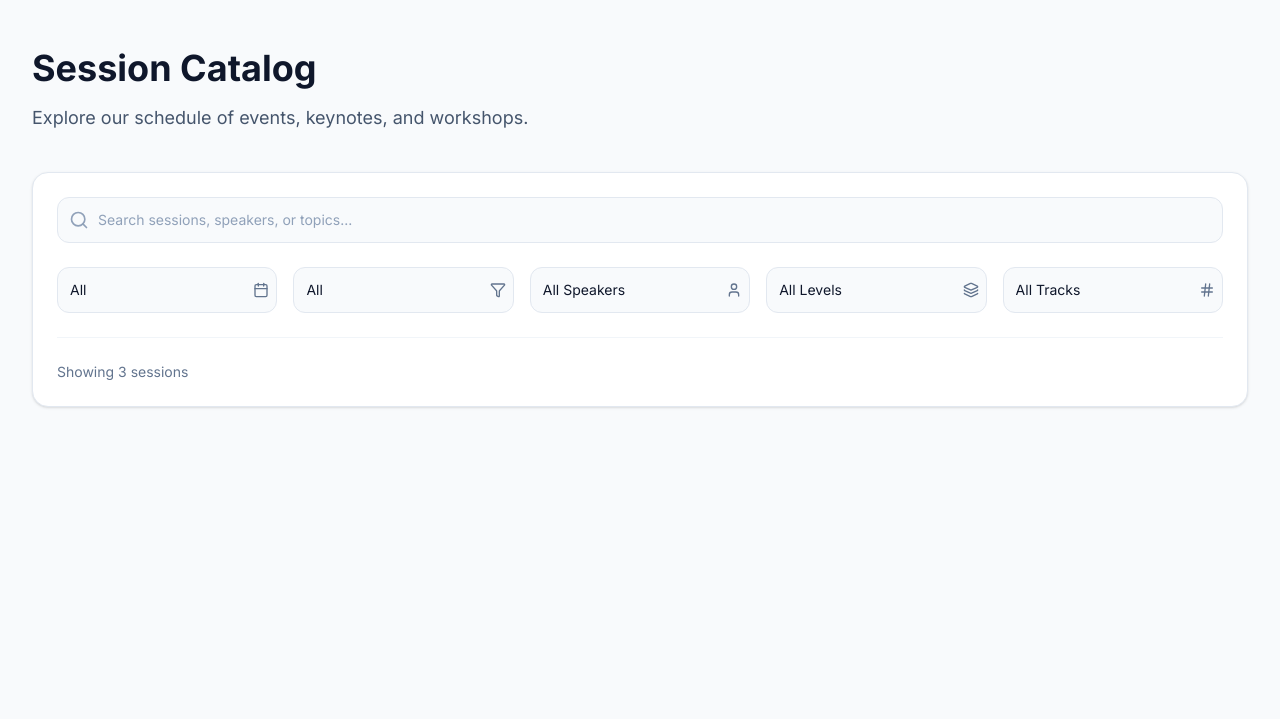
Test: Catalog Page › filters by Speaker
Select "Dr. Sarah Chen" in the 3rd dropdown at (640, 290), box [530,267,750,313]
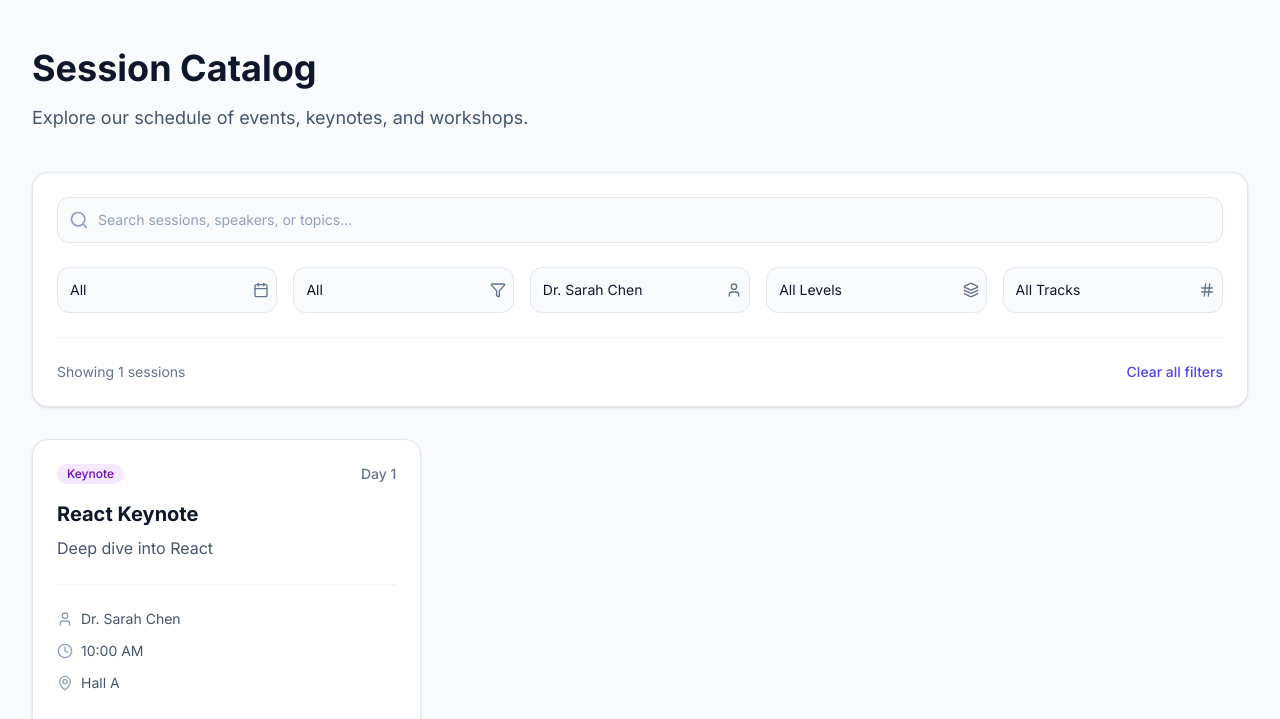
expect the heading "React Keynote" is shown: met, box [57,502,198,526]
